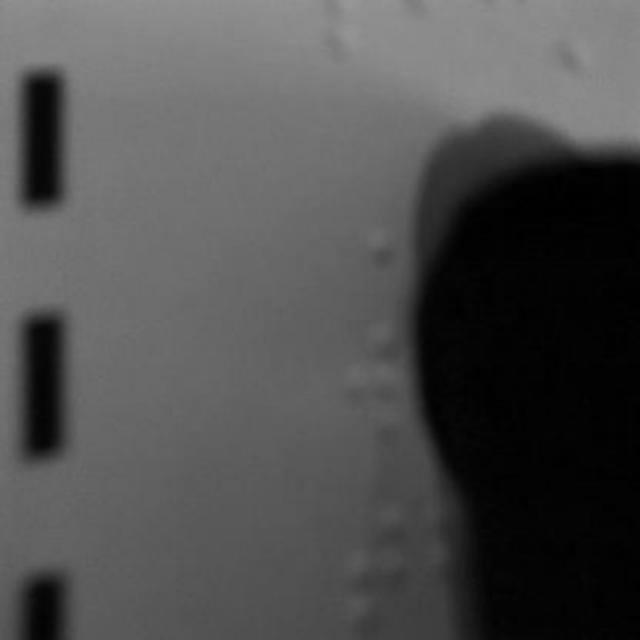braiile: (348, 498, 412, 640), (347, 314, 408, 444)
